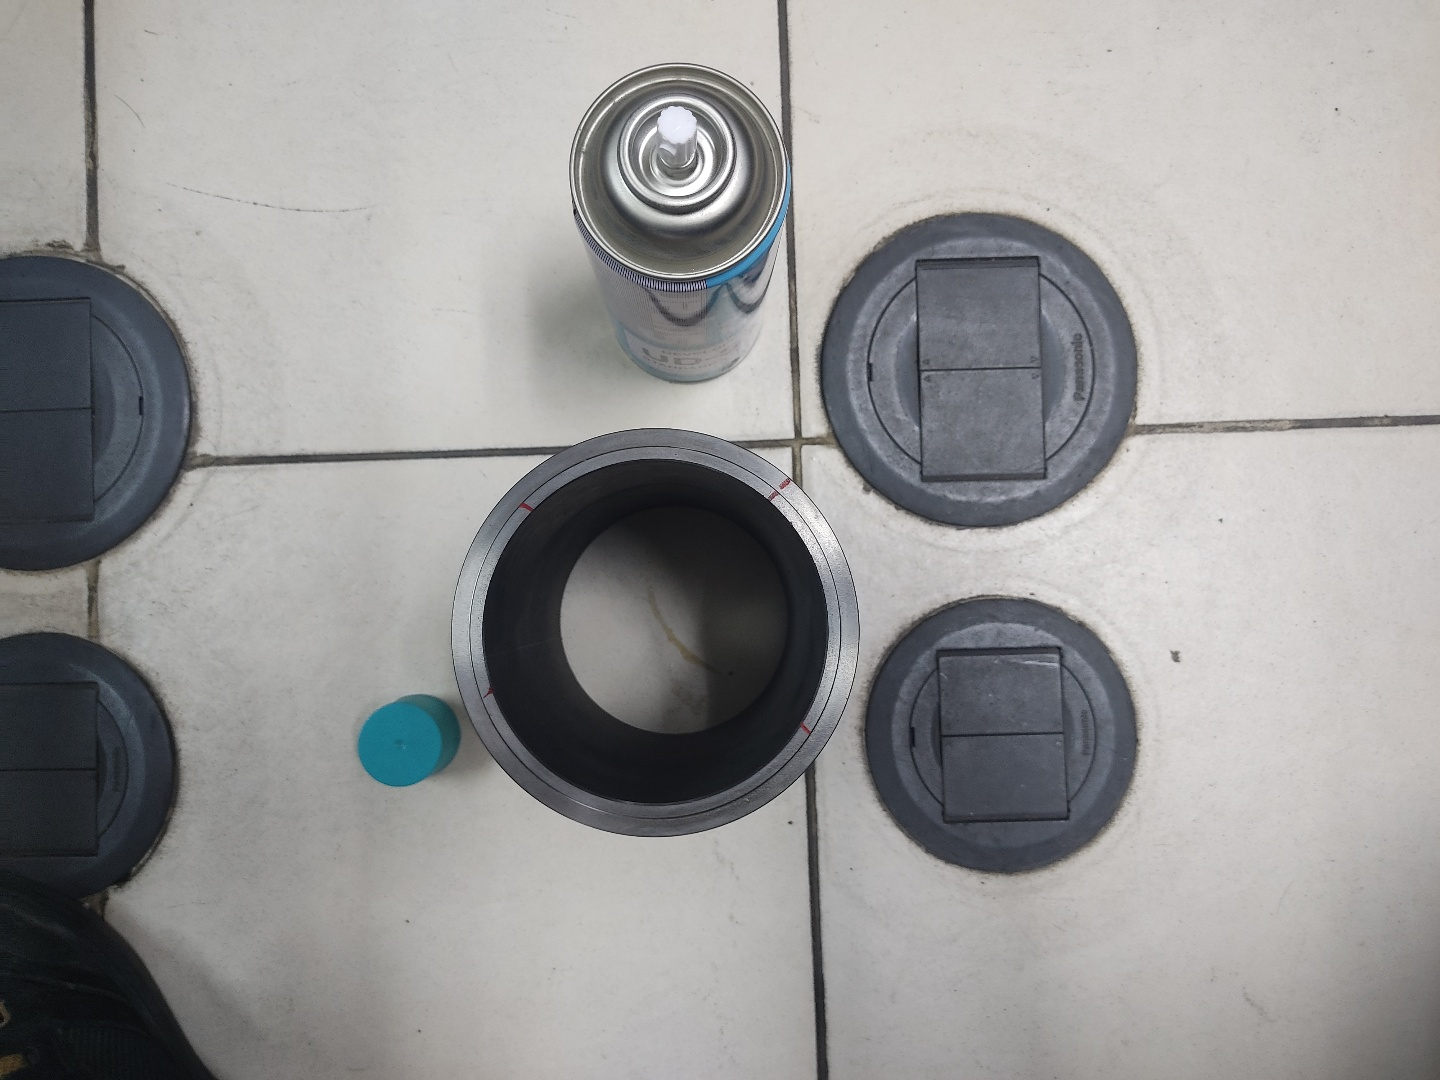cylinder: (446, 423, 863, 839)
